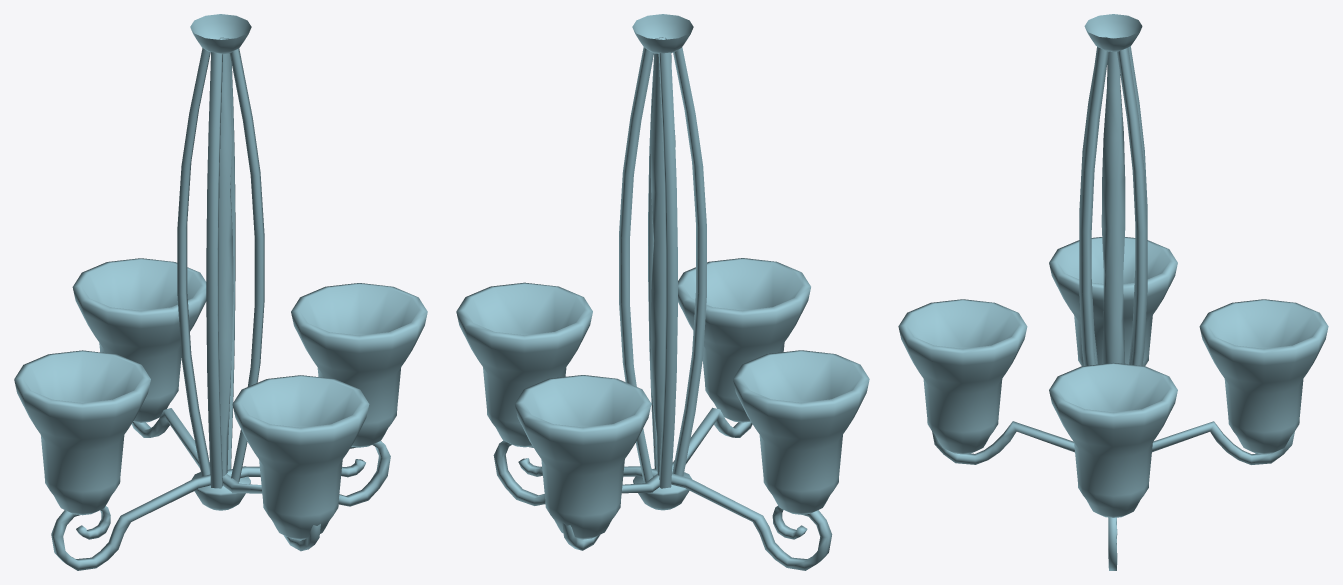
File: lo_Prop_Lamp_D.fbx
The picture shows the model from 3 angles, left to right: view 1: azimuth 30°, elevation 25°; view 2: azimuth 150°, elevation 25°; view 3: azimuth 270°, elevation 25°; orthographic projection. The views are drawn at different scales.
Visible parts, largest first — view 1: lo_Prop_Lamp_D_LOD0; view 2: lo_Prop_Lamp_D_LOD0; view 3: lo_Prop_Lamp_D_LOD0.
Boxes of the visible parts, x1,y1,x2,y2 form: lo_Prop_Lamp_D_LOD0: (14, 14, 427, 570); lo_Prop_Lamp_D_LOD0: (456, 14, 869, 570); lo_Prop_Lamp_D_LOD0: (898, 14, 1328, 570).
Size of what is drawn, in the model's own units: 0.857 by 1.05 by 0.857.
